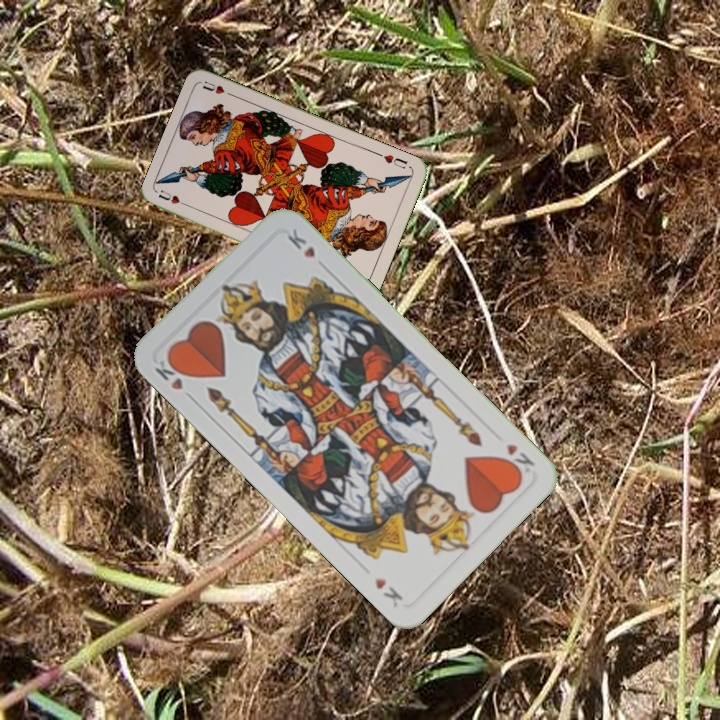HK: (151, 351, 191, 393), (497, 439, 537, 480)
HU: (154, 186, 193, 210), (374, 149, 410, 171)
